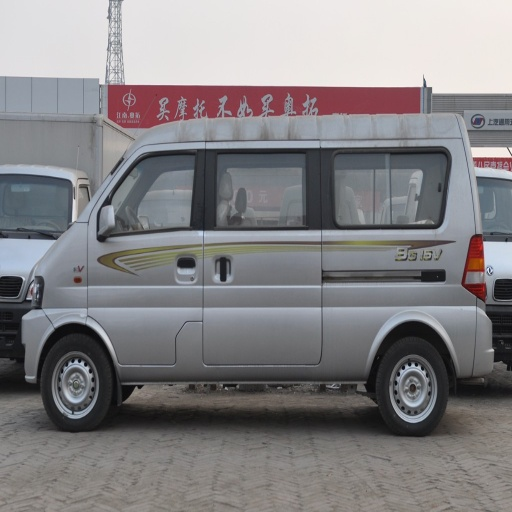back_left_door: (206, 147, 298, 344), (353, 148, 435, 226)
trunk: (223, 249, 473, 381), (430, 141, 469, 226)
